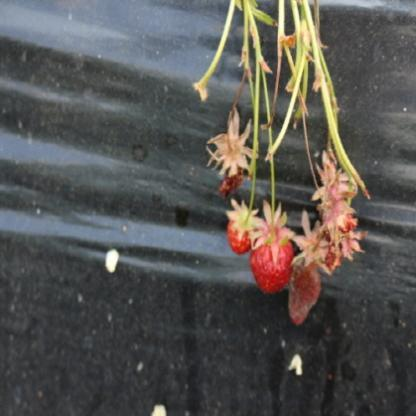Strawberry_Gray_Mold: (288, 209, 334, 327)
